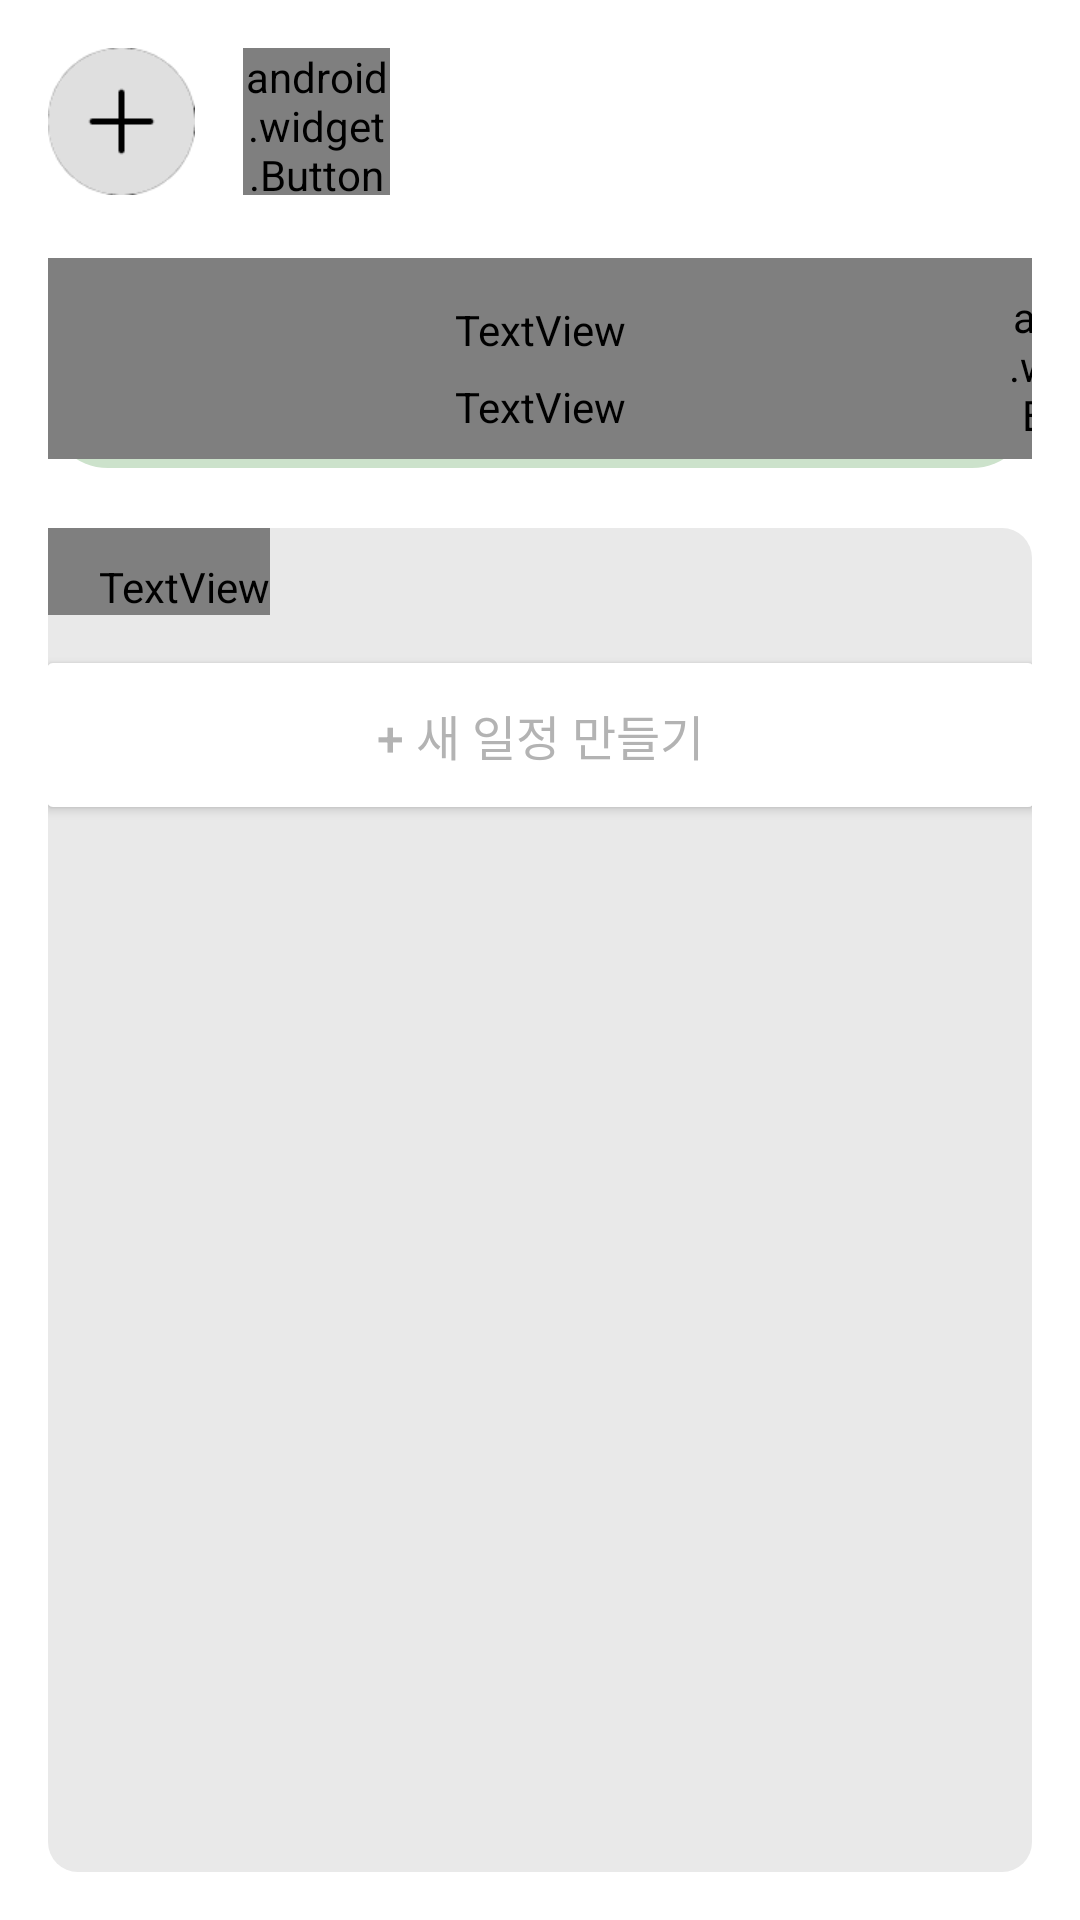

Where icons sit on this 1080 x 1920 app screen, as (x1, y1, x2, y2):
plus: (48, 48, 195, 195)
